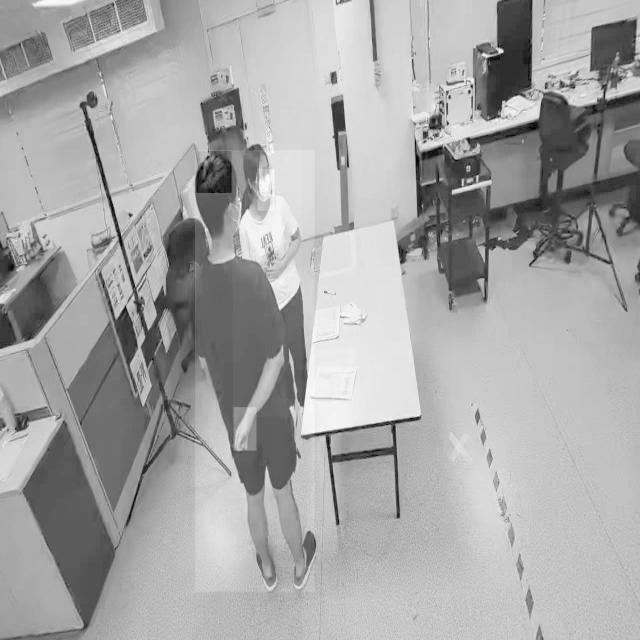face_mask: (258, 169, 274, 211)
hand_noglove: (233, 407, 257, 452), (266, 257, 285, 283)
head_nohelmet: (196, 151, 232, 194), (242, 139, 268, 161)
person: (194, 150, 314, 593), (232, 144, 302, 417)
shoes: (293, 530, 321, 589), (253, 541, 282, 594)
